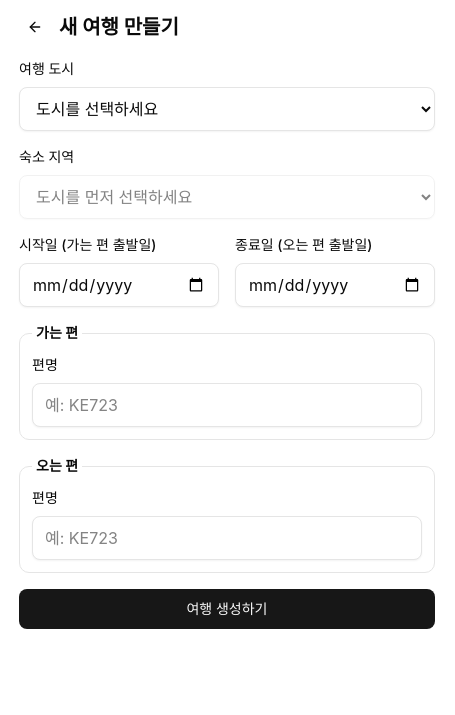
Test: TripCreatePage › shows the server detail for CITY_AIRPORT_MISMATCH
The width and height of the screenshot is (455, 715).
Select "오사카" in the dropdown labelled "여행 도시" at (227, 109), box [19, 87, 435, 131]
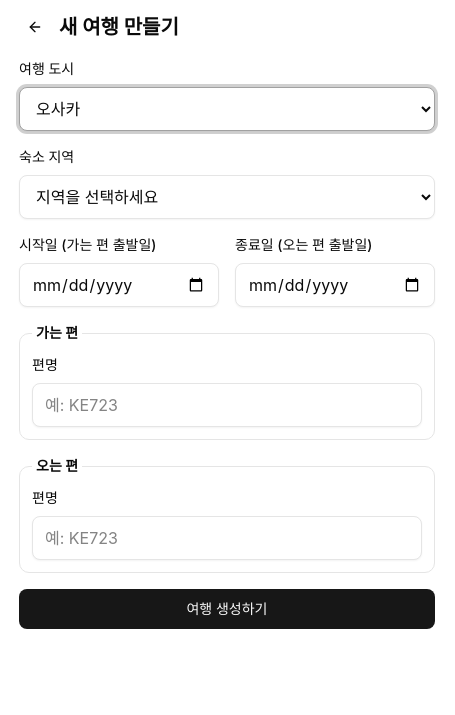
Result: the dropdown labelled "숙소 지역" is enabled
Select "난바" in the dropdown labelled "숙소 지역" at (227, 197), box [19, 175, 435, 219]
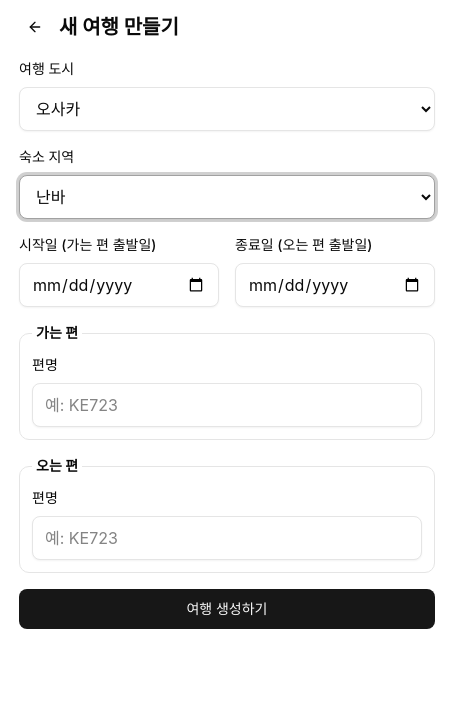
Type "2026-11-05" into the date field labelled "시작일 (가는 편 출발일)" at (119, 285), box [19, 263, 219, 307]
Type "2026-11-08" into the date field labelled "종료일 (오는 편 출발일)" at (335, 285), box [235, 263, 435, 307]
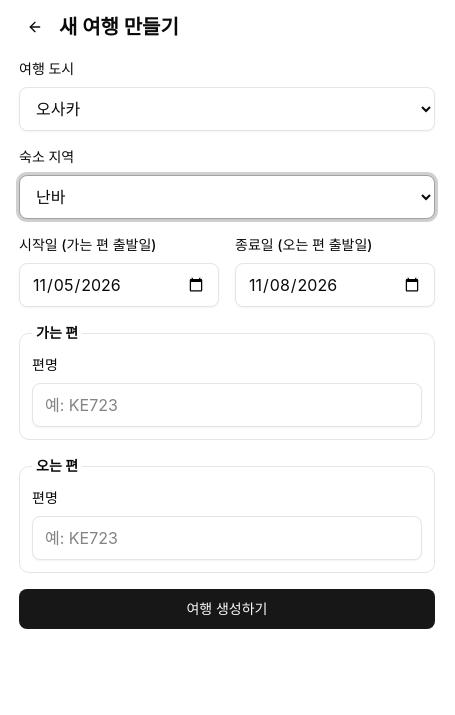
Type "KE724" into the 1st field labelled "편명" at (227, 405), box [32, 383, 422, 427]
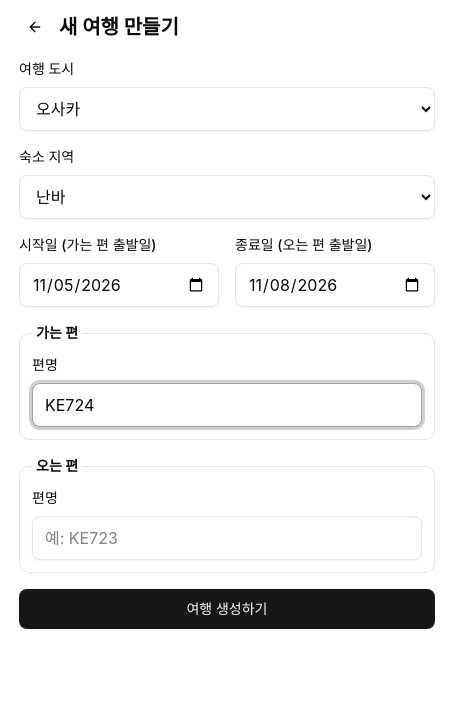
Type "KE724" into the 2nd field labelled "편명" at (227, 538), box [32, 516, 422, 560]
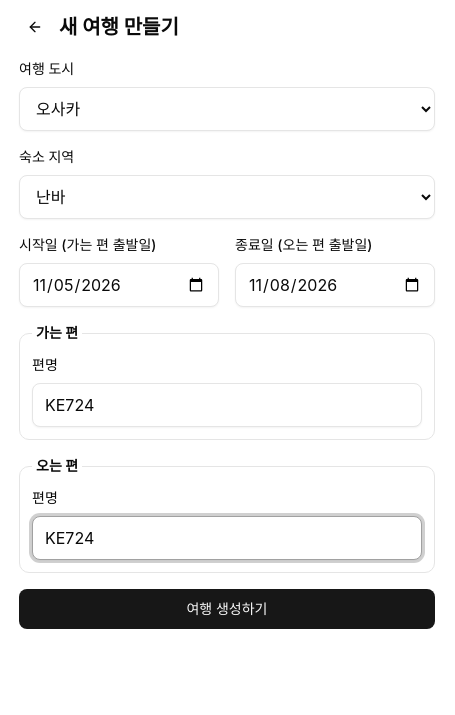
Click the button "여행 생성하기" at (227, 609), box [19, 589, 435, 629]
(page scrolled)
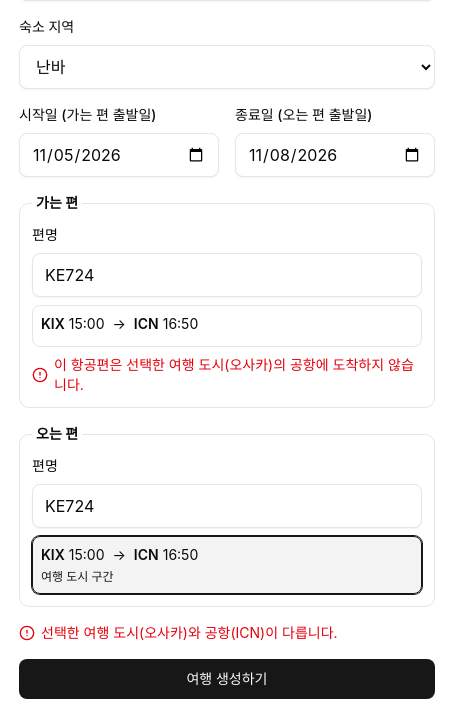
Result: the text "선택한 여행 도시(오사카)와 공항(ICN)이 다릅니다." is shown at [19, 624, 338, 641]
